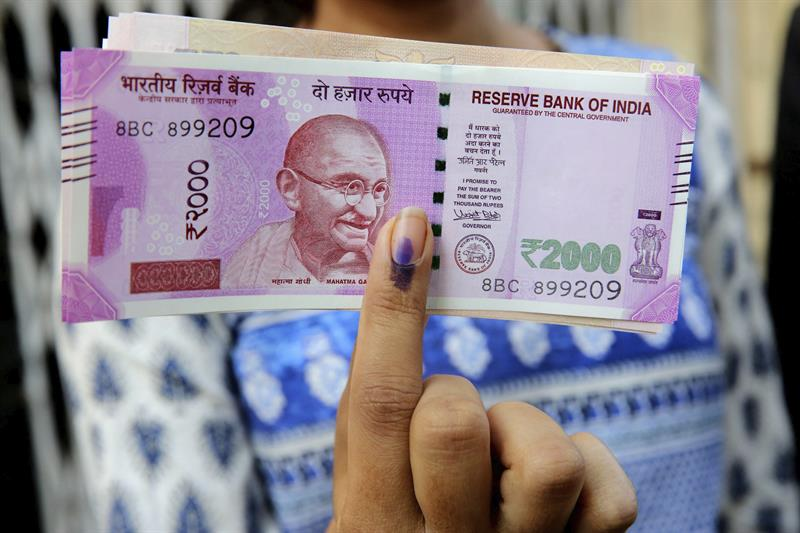billete: (57, 11, 698, 337)
